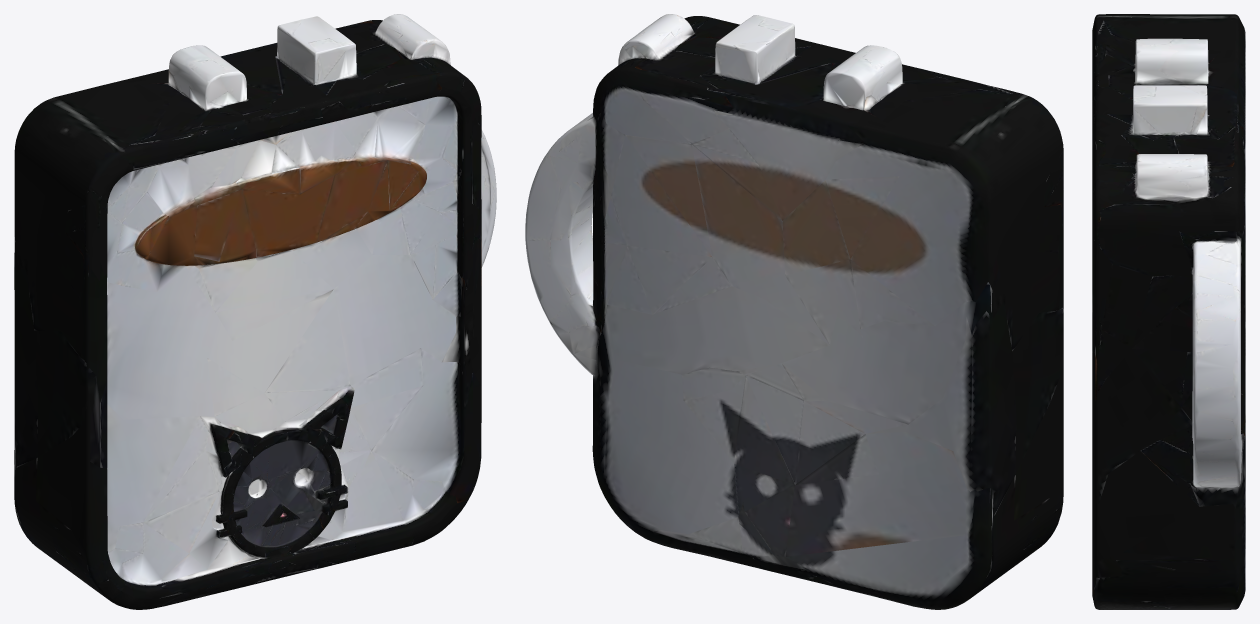
Rendered from mug.glb.
3 views of the same model, side by side, from view 1: azimuth 30°, elevation 25°; view 2: azimuth 150°, elevation 25°; view 3: azimuth 270°, elevation 25° (orthographic). The views are drawn at different scales.
Bounding box in the file's own units: 1.85 × 1.9 × 0.5485.
Materials: 1 (1 with a texture image).
